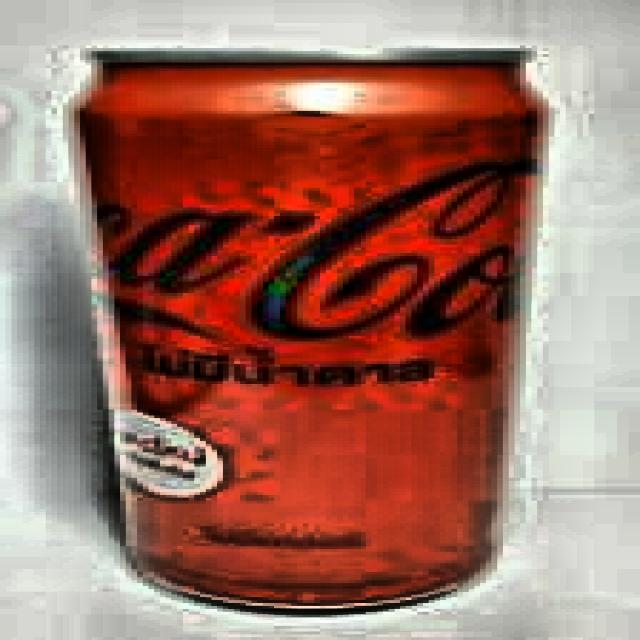Cans: (40, 39, 548, 618)
